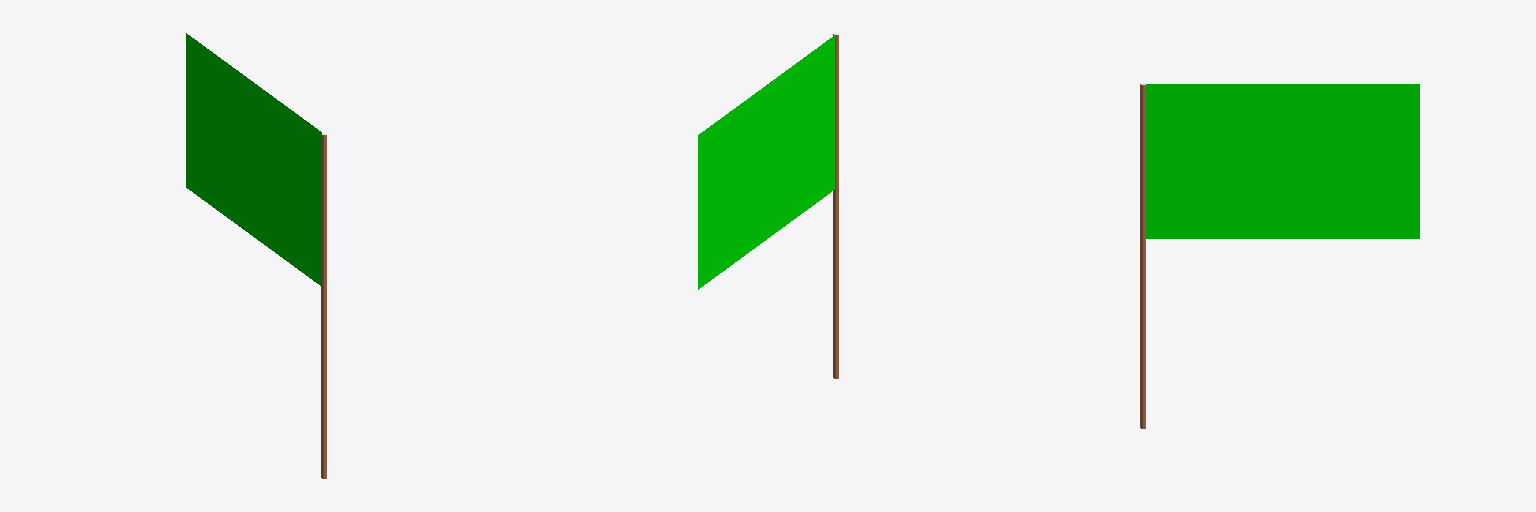
Rendered from bandera.obj.
The picture shows the model from 3 angles: view 1: azimuth 30°, elevation 25°; view 2: azimuth 150°, elevation 25°; view 3: azimuth 270°, elevation 25°; orthographic projection.
Parts seen in each view (by area): view 1: Mesh1 Model; view 2: Mesh1 Model; view 3: Mesh1 Model.
Boxes of the visible parts, <box> form: Mesh1 Model: <box>186,33,326,478</box>; Mesh1 Model: <box>698,33,838,378</box>; Mesh1 Model: <box>1140,83,1419,428</box>.
Bounding box in the file's own units: 1.84 × 118 × 87.13.